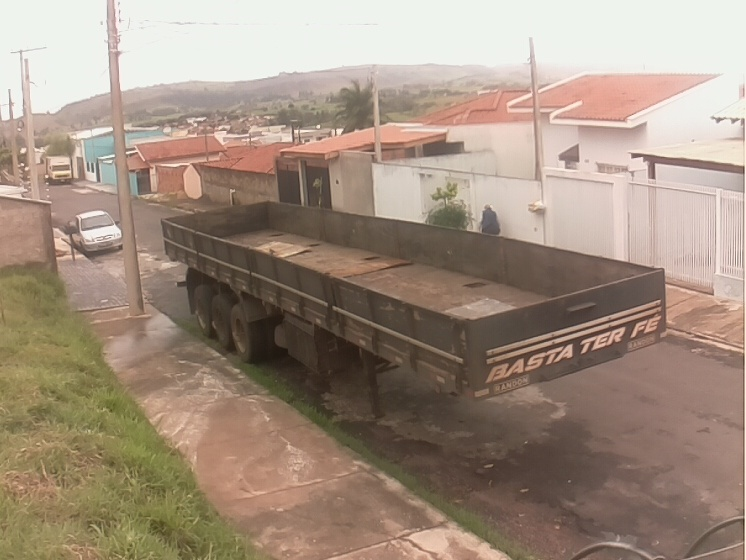person: (474, 202, 503, 238)
